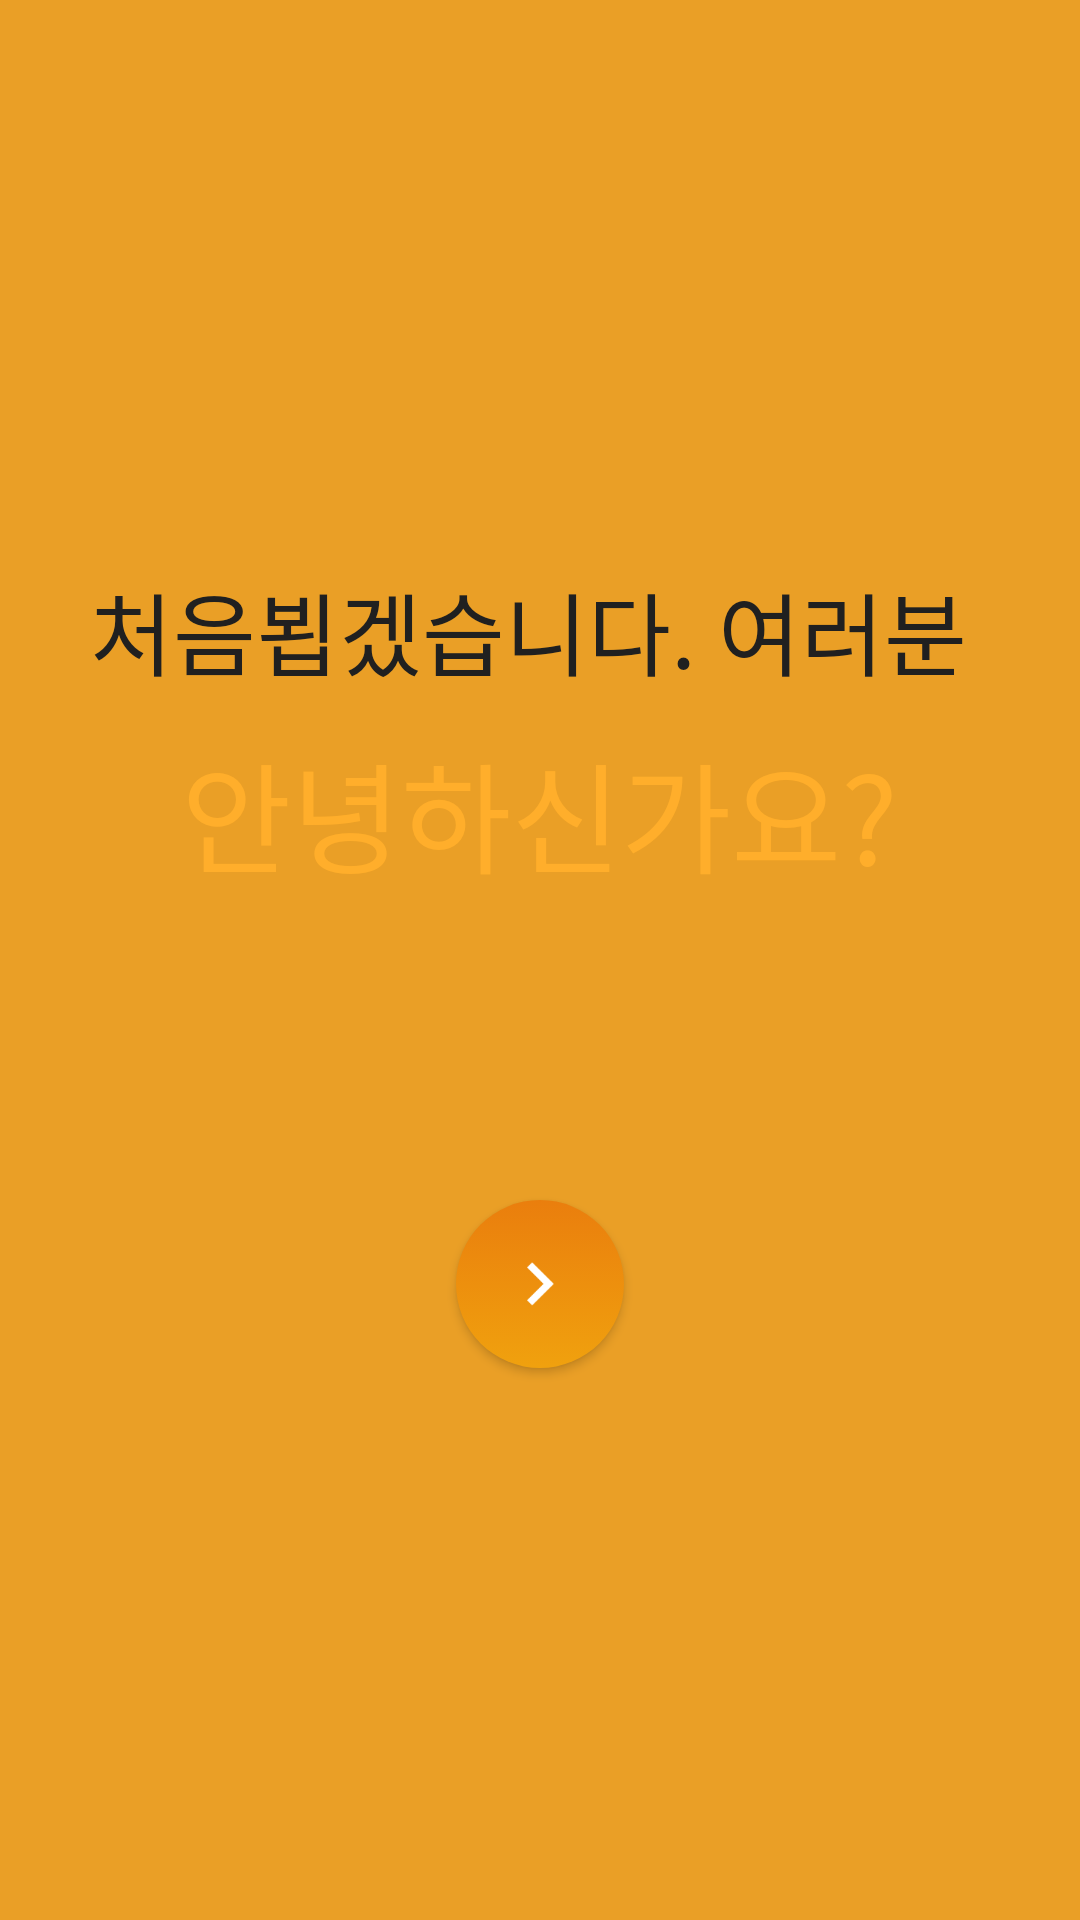

Named icons in this screenshot (1080*1920) and their centers, [x,y]:
arrow next: [540,1284]
